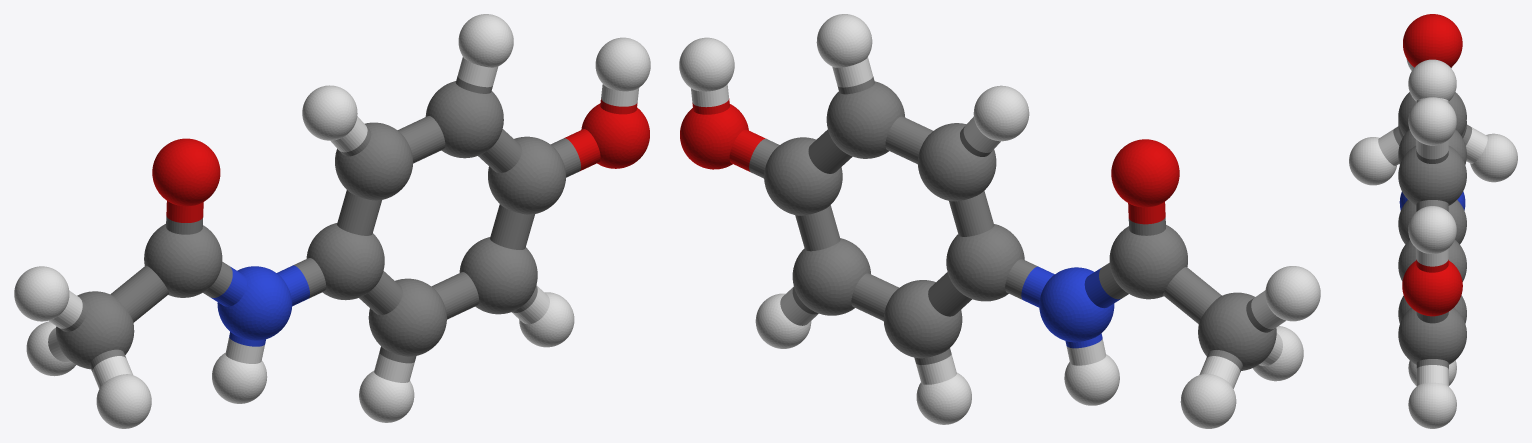
The model's file is paracetamol.glb.
3 views of the same model, side by side, from view 1: azimuth 30°, elevation 25°; view 2: azimuth 150°, elevation 25°; view 3: azimuth 270°, elevation 25° (orthographic). The views are drawn at different scales.
Visible parts, largest first — view 1: atoms, bonds; view 2: atoms, bonds; view 3: atoms, bonds.
Boxes of the visible parts, <box> form: atoms: <box>14,14,650,428</box>; bonds: <box>48,57,638,388</box>; atoms: <box>679,14,1320,428</box>; bonds: <box>691,57,1285,388</box>; atoms: <box>1349,14,1517,428</box>; bonds: <box>1378,98,1487,386</box>.
Bounding box in the file's own units: 9.47 × 5.45 × 2.51.
